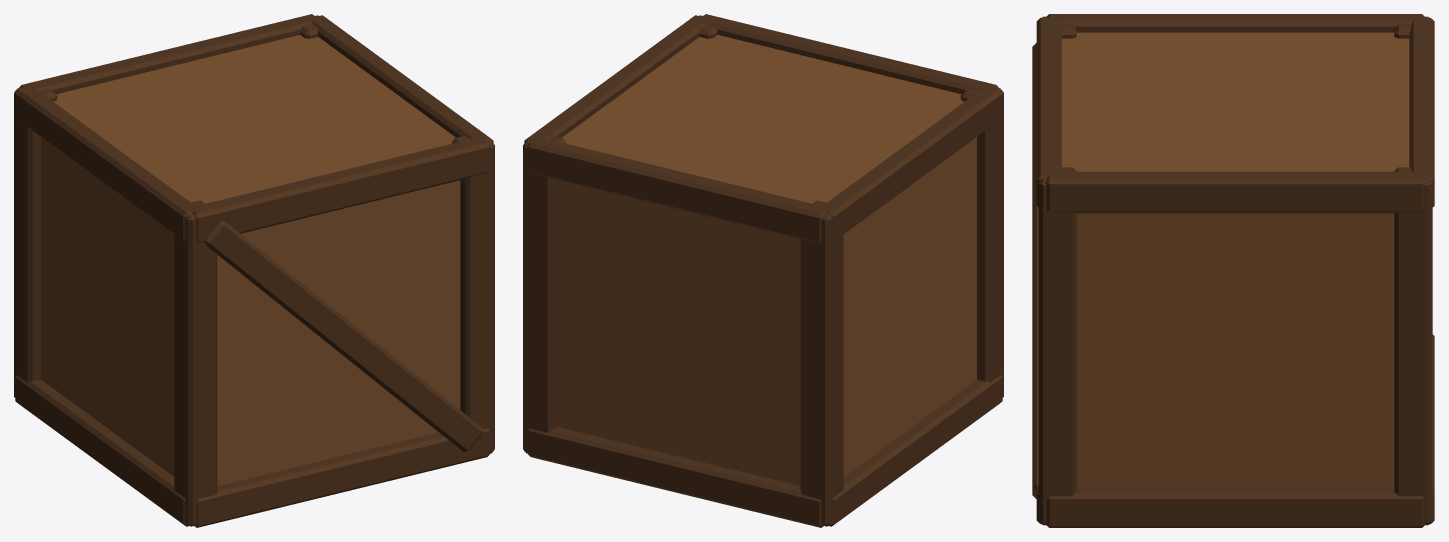
The model's file is caixote.glb.
3 renders of one model, left to right at view 1: azimuth 30°, elevation 25°; view 2: azimuth 150°, elevation 25°; view 3: azimuth 270°, elevation 25°, orthographic. The views are drawn at different scales.
Parts seen in each view (by area): view 1: caixote; view 2: caixote; view 3: caixote.
Part boxes in pixels (x1=…): caixote: x1=14, y1=14, x2=494, y2=527; caixote: x1=523, y1=14, x2=1003, y2=527; caixote: x1=1032, y1=14, x2=1434, y2=527.
Bounding box in the file's own units: 0.94 × 0.91 × 0.95.
